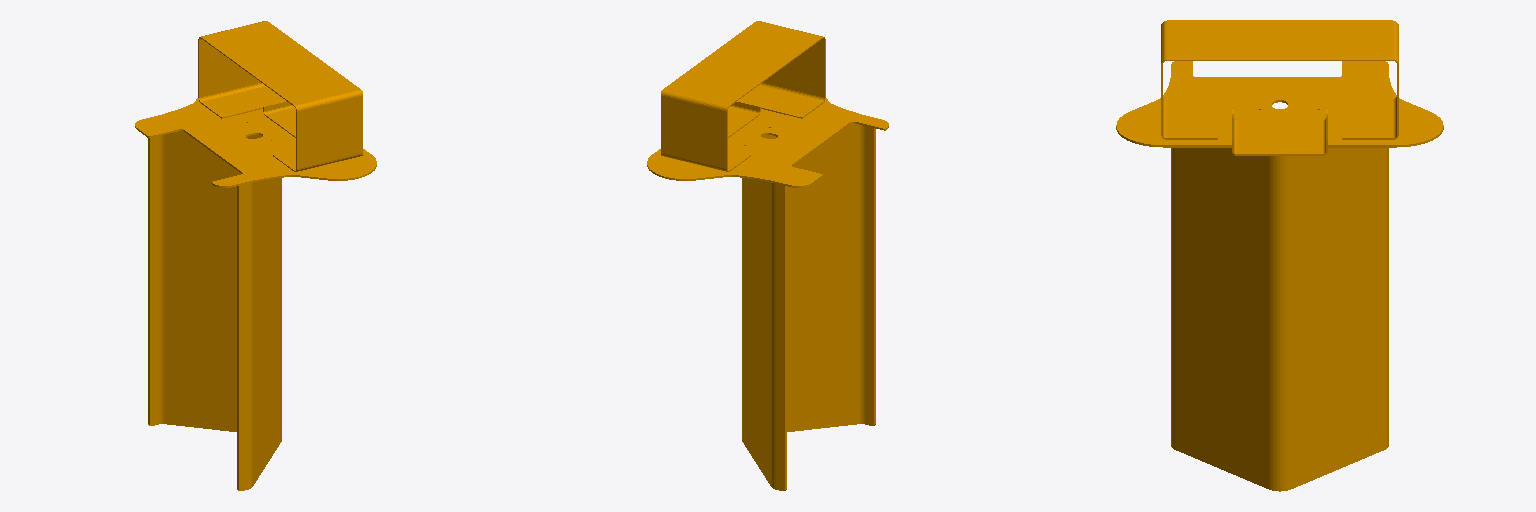
The robot description file, URDF, robot "X30":
<?xml version="1.0" encoding="utf-8"?>
<robot name="X30">
  <!-- <link name="base_link">
    <inertial>
      <origin xyz="0.0 0.0 0.0"/>
      <mass value="1e-12" />
      <inertia ixx="1e-12" ixy="0" ixz="0" iyy="1e-12" iyz="0" izz="1e-12" />
    </inertial>
  </link> -->

  <link name="TORSO">
    <inertial>
      <origin xyz="-0.0029257 7.5034e-06 0.020095" rpy="0 0 0" />
      <mass value="30.7" />
      <inertia ixx="0.364306" ixy="0.00018421" ixz="0.00027469" iyy="0.597627" iyz="0.00026784" izz="0.757267" />
    </inertial>
    <visual>
      <origin xyz="0 0 0" rpy="0 0 0" />
      <geometry>
        <mesh filename="meshes/torso.dae" />
      </geometry>
    </visual>
    <collision>
      <origin xyz="0 0 0" rpy="0 0 0" />
      <geometry>
        <box size="0.46 0.26 0.15"/>
      </geometry>
    </collision>
  </link>

  <!-- <joint name="base_joint" type="fixed">
    <parent link="base_link" />
    <child link="torso" />
  </joint> -->

  <link name="FL_HIP">
    <inertial>
      <origin xyz="-0.0018591 -0.011377 0.00027039" rpy="0 0 0" />
      <mass value="1.43" />
      <inertia ixx="0.0014068" ixy="-1.8545e-05" ixz="2.7664e-06" iyy="0.0026782" iyz="2.1221e-06" izz="0.0015918" />
    </inertial>
    <visual>
      <origin xyz="0 0 0" rpy="0 0 0" />
      <geometry>
        <mesh filename="meshes/hip.dae" />
      </geometry>
    </visual>
  </link>

  <joint name="FL_HipX_joint" type="revolute">
    <origin xyz="0.291 0.08 0" rpy="0 0 0" />
    <parent link="TORSO" />
    <child link="FL_HIP" />
    <axis xyz="-1 0 0" />
    <dynamics damping="0.01" friction="0.03"/>
    <limit lower="-0.323" upper="0.585" effort="84" velocity="17.5" />
  </joint>

  <link name="FL_THIGH">
    <inertial>
      <origin xyz="-0.0087581 -0.023554 -0.055162" rpy="0 0 0" />
      <mass value="4.0809" />
      <inertia ixx="0.012604" ixy="0.00020291" ixz="-0.00030875" iyy="0.0164" iyz="0.00036593" izz="0.0061084" />
    </inertial>
    <visual>
      <origin xyz="0 0 0" rpy="0 0 0" />
      <geometry>
        <mesh filename="meshes/l_thigh.dae" />
      </geometry>
    </visual>
    <collision>
      <origin xyz="-0.02 0 -0.13" />
      <geometry>
        <cylinder length="0.25" radius="0.04"/>
      </geometry>
    </collision>
  </link>

  <joint name="FL_HipY_joint" type="revolute">
    <origin xyz="0 0.11675 0" rpy="0 0 0" />
    <parent link="FL_HIP" />
    <child link="FL_THIGH" />
    <axis xyz="0 -1 0" />
    <dynamics damping="0.01" friction="0.03"/>
    <limit lower="-2.967" upper="0.262" effort="84" velocity="17.5" />
  </joint>

  <link name="FL_SHANK">
    <inertial>
      <origin xyz="0.014851 2.0685e-05 -0.12283" rpy="0 0 0" />
      <mass value="0.71386" />
      <inertia ixx="0.0093039" ixy="1.7693e-07" ixz="0.00034843" iyy="0.0096272" iyz="-3.7717e-06" izz="0.00041542" />
    </inertial>
    <visual>
      <origin xyz="0 0 0" rpy="0 0 0" />
      <geometry>
        <mesh filename="meshes/shank.dae" />
      </geometry>
    </visual>
    <collision>
      <origin xyz="0.00 0 -0.155" />
      <geometry>
        <cylinder length="0.22" radius="0.025"/>
      </geometry>
    </collision>
  </link>

  <joint name="FL_Knee_joint" type="revolute">
    <origin xyz="0 0 -0.30" rpy="0 0 0" />
    <parent link="FL_THIGH" />
    <child link="FL_SHANK" />
    <axis xyz="0 -1 0" />
    <dynamics damping="0.01" friction="0.03"/>
    <limit lower="0.349" upper="2.531" effort="180" velocity="16.1" />
  </joint>

  <link name="FL_FOOT">
    <inertial>
      <mass value="0.06" />
      <inertia ixx="1e-12" ixy="0" ixz="0" iyy="1e-12" iyz="0" izz="1e-12" />
    </inertial>
    <collision>
      <geometry>
        <sphere radius="0.03"/>
      </geometry>
    </collision>
  </link>

  <joint name="FL_Ankle" type="fixed" dont_collapse="true">
    <origin xyz="0 0 -0.31"/>
    <parent link="FL_SHANK" />
    <child link="FL_FOOT" />
  </joint>

  <link name="FR_HIP">
    <inertial>
      <origin xyz="-0.0018591 0.011377 -2.7675e-05" rpy="3.14159 0 0" />
      <mass value="1.43" />
      <inertia ixx="0.0014068" ixy="1.8545e-05" ixz="-4.1487e-06" iyy="0.0026782" iyz="7.0795e-06" izz="0.0015918" />
    </inertial>
    <visual>
      <origin xyz="0 0 0" rpy="0 0 0" />
      <geometry>
        <mesh filename="meshes/hip.dae" />
      </geometry>
    </visual>
  </link>

  <joint name="FR_HipX_joint" type="revolute">
    <origin xyz="0.291 -0.08 0" rpy="0 0 0" />
    <parent link="TORSO" />
    <child link="FR_HIP" />
    <axis xyz="-1 0 0" />
    <dynamics damping="0.01" friction="0.03"/>
    <limit lower="-0.585" upper="0.323" effort="84" velocity="17.5" />
  </joint>

  <link name="FR_THIGH">
    <inertial>
      <origin xyz="-0.0087433 0.023551 -0.055154" rpy="0 0 0" />
      <mass value="4.0809" />
      <inertia ixx="0.012604" ixy="-0.00020374" ixz="-0.0003086" iyy="0.0164" iyz="-0.00036585" izz="0.0061086" />
    </inertial>
    <visual>
      <origin xyz="0 0 0" rpy="0 0 0" />
      <geometry>
        <mesh filename="meshes/r_thigh.dae" />
      </geometry>
    </visual>
    <collision>
      <origin xyz="-0.02 0 -0.13" />
      <geometry>
        <cylinder length="0.25" radius="0.04"/>
      </geometry>
    </collision>
  </link>

  <joint name="FR_HipY_joint" type="revolute">
    <origin xyz="0 -0.11675 0" rpy="0 0 0" />
    <parent link="FR_HIP" />
    <child link="FR_THIGH" />
    <axis xyz="0 -1 0" />
    <dynamics damping="0.01" friction="0.03"/>
    <limit lower="-2.967" upper="0.262" effort="84" velocity="17.5" />
  </joint>

  <link name="FR_SHANK">
    <inertial>
      <origin xyz="0.014851 2.0687e-05 -0.12283" rpy="0 0 0" />
      <mass value="0.71386" />
      <inertia ixx="0.0093039" ixy="1.7692e-07" ixz="0.00034843" iyy="0.0096272" iyz="-3.7714e-06" izz="0.00041542" />
    </inertial>
    <visual>
      <origin xyz="0 0 0" rpy="0 0 0" />
      <geometry>
        <mesh filename="meshes/shank.dae" />
      </geometry>
    </visual>
    <collision>
      <origin xyz="0.00 0 -0.155" />
      <geometry>
        <cylinder length="0.22" radius="0.025"/>
      </geometry>
    </collision>
  </link>

  <joint name="FR_Knee_joint" type="revolute">
    <origin xyz="0 0 -0.30" rpy="0 0 0" />
    <parent link="FR_THIGH" />
    <child link="FR_SHANK" />
    <axis xyz="0 -1 0" />
    <dynamics damping="0.01" friction="0.03"/>
    <limit lower="0.349" upper="2.531" effort="180" velocity="16.1" />
  </joint>

  <link name="FR_FOOT">
    <inertial>
      <mass value="0.06" />
      <inertia ixx="1e-12" ixy="0" ixz="0" iyy="1e-12" iyz="0" izz="1e-12" />
    </inertial>
    <collision>
      <geometry>
        <sphere radius="0.03"/>
      </geometry>
    </collision>
  </link>

  <joint name="FR_Ankle" type="fixed" dont_collapse="true">
    <origin xyz="0 0 -0.31"/>
    <parent link="FR_SHANK" />
    <child link="FR_FOOT" />
  </joint>


  <link name="HL_HIP">
    <inertial>
      <origin xyz="0.0018591 -0.011377 -2.7675e-05" rpy="0 3.14159 0" />
      <mass value="1.43" />
      <inertia ixx="0.0014068" ixy="1.8545e-05" ixz="4.1487e-06" iyy="0.0026782" iyz="-7.0795e-06" izz="0.0015918" />
    </inertial>
    <visual>
      <origin xyz="0 0 0" rpy="0 0 0" />
      <geometry>
        <mesh filename="meshes/hip.dae" />
      </geometry>
    </visual>
  </link>

  <joint name="HL_HipX_joint" type="revolute">
    <origin xyz="-0.291 0.08 0" rpy="0 0 0" />
    <parent link="TORSO" />
    <child link="HL_HIP" />
    <axis xyz="-1 0 0" />
    <dynamics damping="0.01" friction="0.03"/>
    <limit lower="-0.323" upper="0.585" effort="84" velocity="17.5" />
  </joint>

  <link name="HL_THIGH">
    <inertial>
      <origin xyz="-0.0087581 -0.023554 -0.055162" rpy="0 0 0" />
      <mass value="4.0809" />
      <inertia ixx="0.012604" ixy="0.00020291" ixz="-0.00030875" iyy="0.0164" iyz="0.00036593" izz="0.0061084" />
    </inertial>
    <visual>
      <origin xyz="0 0 0" rpy="0 0 0" />
      <geometry>
        <mesh filename="meshes/l_thigh.dae" />
      </geometry>
    </visual>
    <collision>
      <origin xyz="-0.02 0 -0.13" />
      <geometry>
        <cylinder length="0.25" radius="0.04"/>
      </geometry>
    </collision>
  </link>

  <joint name="HL_HipY_joint" type="revolute">
    <origin xyz="0 0.11675 0" rpy="0 0 0" />
    <parent link="HL_HIP" />
    <child link="HL_THIGH" />
    <axis xyz="0 -1 0" />
    <dynamics damping="0.01" friction="0.03"/>
    <limit lower="-2.967" upper="0.262" effort="84" velocity="17.5" />
  </joint>

  <link name="HL_SHANK">
    <inertial>
      <origin xyz="0.014851 2.0679e-05 -0.12283" rpy="0 0 0" />
      <mass value="0.71386" />
      <inertia ixx="0.0093039" ixy="1.7692e-07" ixz="0.00034843" iyy="0.0096272" iyz="-3.7714e-06" izz="0.00041542" />
    </inertial>
    <visual>
      <origin xyz="0 0 0" rpy="0 0 0" />
      <geometry>
        <mesh filename="meshes/shank.dae" />
      </geometry>
    </visual>
    <collision>
      <origin xyz="0.00 0 -0.155" />
      <geometry>
        <cylinder length="0.22" radius="0.025"/>
      </geometry>
    </collision>
  </link>

  <joint name="HL_Knee_joint" type="revolute">
    <origin xyz="0 0 -0.30" rpy="0 0 0" />
    <parent link="HL_THIGH" />
    <child link="HL_SHANK" />
    <axis xyz="0 -1 0" />
    <dynamics damping="0.01" friction="0.03"/>
    <limit lower="0.349" upper="2.531" effort="180" velocity="16.1" />
  </joint>

  <link name="HL_FOOT">
    <inertial>
      <mass value="0.06" />
      <inertia ixx="1e-12" ixy="0" ixz="0" iyy="1e-12" iyz="0" izz="1e-12" />
    </inertial>
    <collision>
      <geometry>
        <sphere radius="0.03"/>
      </geometry>
    </collision>
  </link>

  <joint name="HL_Ankle" type="fixed" dont_collapse="true">
    <origin xyz="0 0 -0.31"/>
    <parent link="HL_SHANK" />
    <child link="HL_FOOT" />
  </joint>

  <link name="HR_HIP">
    <inertial>
      <origin xyz="0.0018591 0.011377 0.00027039" rpy="3.14159 3.14159 0" />
      <mass value="1.43" />
      <inertia ixx="0.0014068" ixy="-1.8545e-05" ixz="-2.7664e-06" iyy="0.0026782" iyz="-2.1221e-06" izz="0.0015918" />
    </inertial>
    <visual>
      <origin xyz="0 0 0" rpy="0 0 0" />
      <geometry>
        <mesh filename="meshes/hip.dae" />
      </geometry>
    </visual>
  </link>

  <joint name="HR_HipX_joint" type="revolute">
    <origin xyz="-0.291 -0.08 0" rpy="0 0 0" />
    <parent link="TORSO" />
    <child link="HR_HIP" />
    <axis xyz="-1 0 0" />
    <dynamics damping="0.01" friction="0.03"/>
    <limit lower="-0.585" upper="0.323" effort="84" velocity="17.5" />
  </joint>

  <link name="HR_THIGH">
    <inertial>
      <origin xyz="-0.0087433 0.023551 -0.055154" rpy="0 0 0" />
      <mass value="4.0809" />
      <inertia ixx="0.012604" ixy="-0.00020374" ixz="-0.0003086" iyy="0.0164" iyz="-0.00036585" izz="0.0061086" />
    </inertial>
    <visual>
      <origin xyz="0 0 0" rpy="0 0 0" />
      <geometry>
        <mesh filename="meshes/r_thigh.dae" />
      </geometry>
    </visual>
    <collision>
      <origin xyz="-0.02 0 -0.13" />
      <geometry>
        <cylinder length="0.25" radius="0.04"/>
      </geometry>
    </collision>
  </link>

  <joint name="HR_HipY_joint" type="revolute">
    <origin xyz="0 -0.11675 0" rpy="0 0 0" />
    <parent link="HR_HIP" />
    <child link="HR_THIGH" />
    <axis xyz="0 -1 0" />
    <dynamics damping="0.01" friction="0.03"/>
    <limit lower="-2.967" upper="0.262" effort="84" velocity="17.5" />
  </joint>

  <link name="HR_SHANK">
    <inertial>
      <origin xyz="0.014851 2.0679e-05 -0.12283" rpy="0 0 0" />
      <mass value="0.71386" />
      <inertia ixx="0.0093039" ixy="1.7692e-07" ixz="0.00034843" iyy="0.0096272" iyz="-3.7714e-06" izz="0.00041542" />
    </inertial>
    <visual>
      <origin xyz="0 0 0" rpy="0 0 0" />
      <geometry>
        <mesh filename="meshes/shank.dae" />
      </geometry>
    </visual>
    <collision>
      <origin xyz="0.00 0 -0.155" />
      <geometry>
        <cylinder length="0.22" radius="0.025"/>
      </geometry>
    </collision>
  </link>

  <joint name="HR_Knee_joint" type="revolute">
    <origin xyz="0 0 -0.30" rpy="0 0 0" />
    <parent link="HR_THIGH" />
    <child link="HR_SHANK" />
    <axis xyz="0 -1 0" />
    <dynamics damping="0.01" friction="0.03"/>
    <limit lower="0.349" upper="2.531" effort="180" velocity="16.1" />
  </joint>

  <link name="HR_FOOT">
    <inertial>
      <mass value="0.06" />
      <inertia ixx="1e-12" ixy="0" ixz="0" iyy="1e-12" iyz="0" izz="1e-12" />
    </inertial>
    <collision>
      <geometry>
        <sphere radius="0.03"/>
      </geometry>
    </collision>
  </link>

  <joint name="HR_Ankle" type="fixed" dont_collapse="true">
    <origin xyz="0 0 -0.31"/>
    <parent link="HR_SHANK" />
    <child link="HR_FOOT" />
  </joint>

</robot>

--- What the picture shows (computed from the rendered views, not written in the file) ---
Views: 3 orthographic renders of the robot side by side, from view 1: azimuth 30°, elevation 25°; view 2: azimuth 150°, elevation 25°; view 3: azimuth 270°, elevation 25°.
Robot: X30 — 17 links, 16 joints (12 revolute, 4 fixed); root link TORSO; default pose: joints at zero except 4 at the middle of their limits (FL_Knee_joint = 1.44, FR_Knee_joint = 1.44, HL_Knee_joint = 1.44, HR_Knee_joint = 1.44).
Visible links, largest first — view 1: TORSO; view 2: TORSO; view 3: TORSO.
Link boxes in pixels (<box>): TORSO: <box>135,21,376,490</box>; TORSO: <box>647,21,888,490</box>; TORSO: <box>1116,20,1443,491</box>.
Size in the robot's own frame: 0.373 by 0.5256 by 0.8007 metres.
1 mesh visuals loaded from 5 distinct referenced files (1 Collada DAE); not drawn: 12 (reference not matched to a file when rendering).